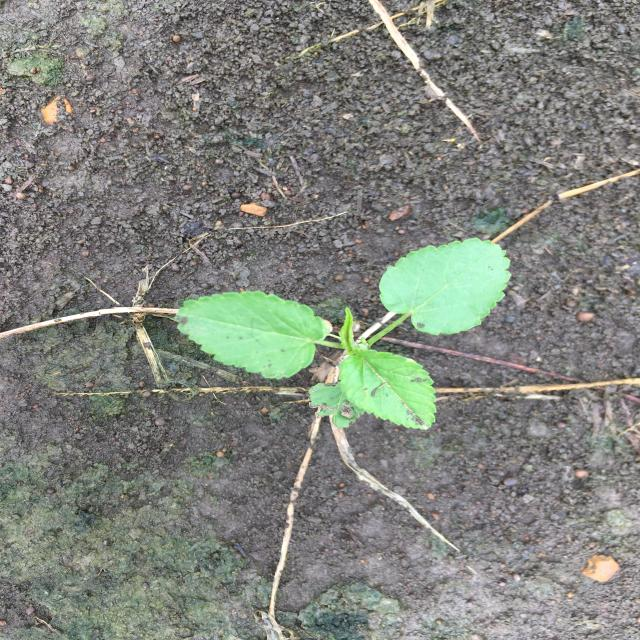PricklySida: (174, 238, 511, 430)
